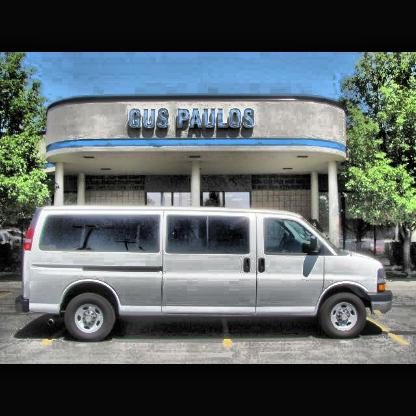Chevrolet Express Van 2007: (18, 207, 395, 343)
